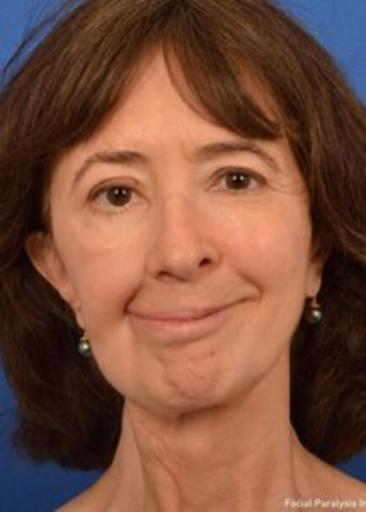left_eye: (205, 169, 273, 198)
left_lip_corner: (236, 288, 260, 314)
right_eye: (86, 186, 146, 212)
right_lip_corner: (115, 301, 145, 323)
